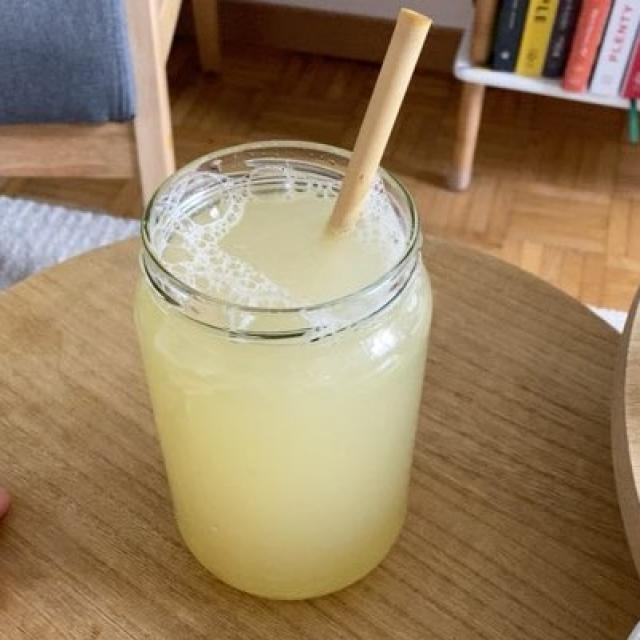water: (141, 184, 421, 589)
